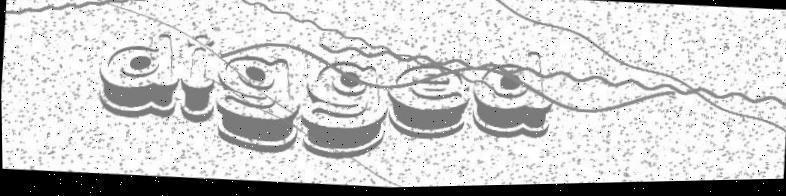d: (465, 45, 557, 150), (90, 27, 184, 128)
e: (381, 51, 475, 147)
g: (295, 57, 388, 163), (212, 51, 304, 157)
i: (175, 29, 221, 127)
